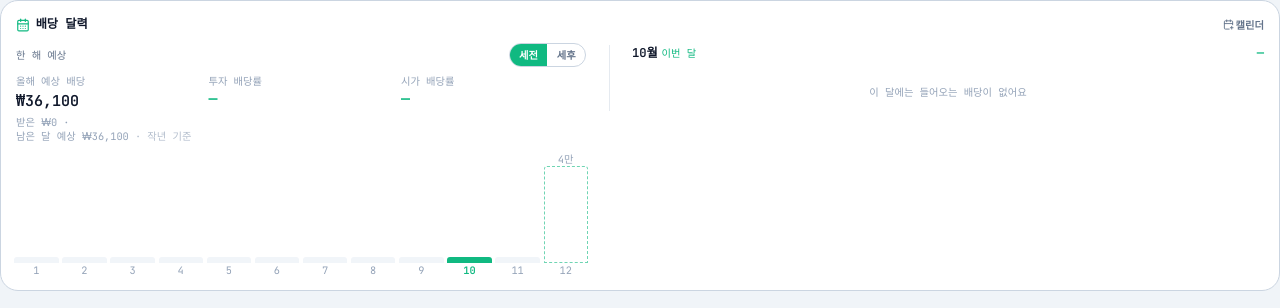
배당 달력의 캘린더 단추 › 공시된 날짜가 하나도 없으면 파일을 안 만들고 이유를 말한다
Click the button "캘린더".
click(1243, 25)  # box [1223,18,1264,32]
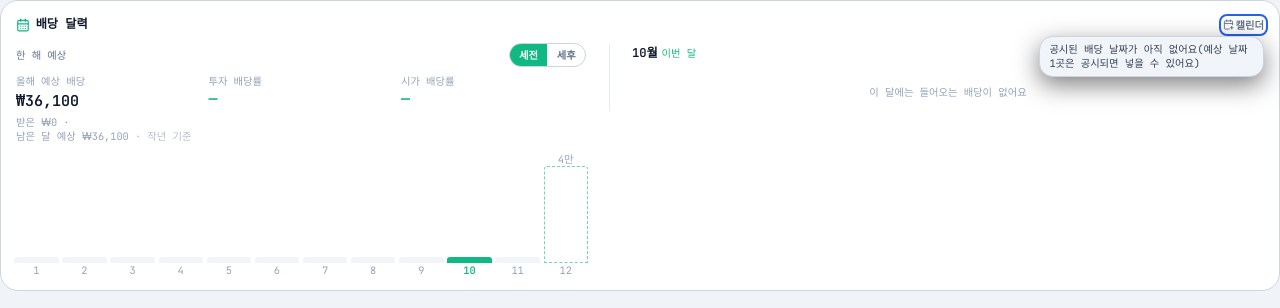
Expected: the message reads "공시된 배당 날짜가 아직 없어요(예상 날짜 1곳은 공시되면 넣을 수 있어요)", [1049,42,1248,70]
